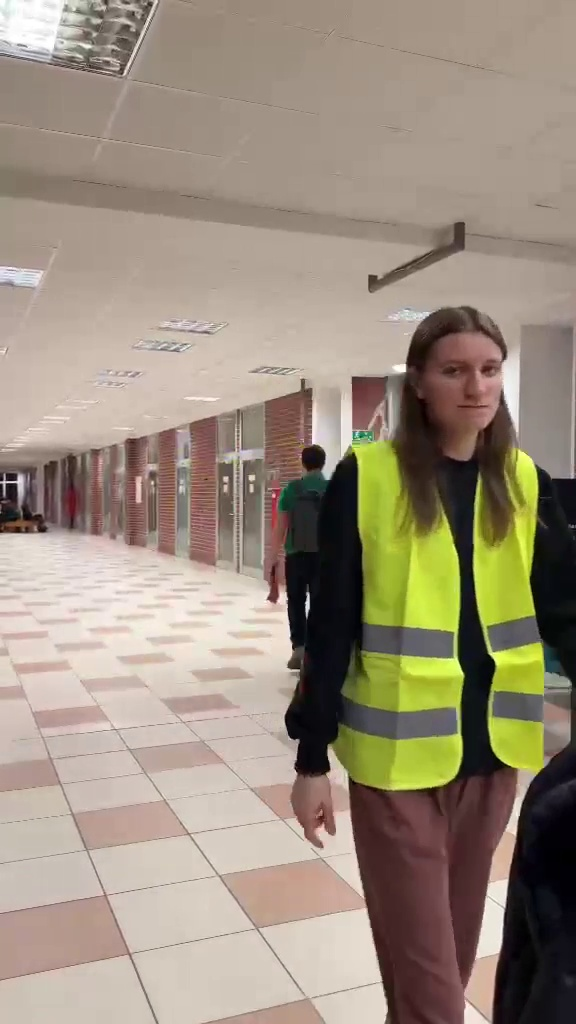vest: (297, 304, 567, 990)
